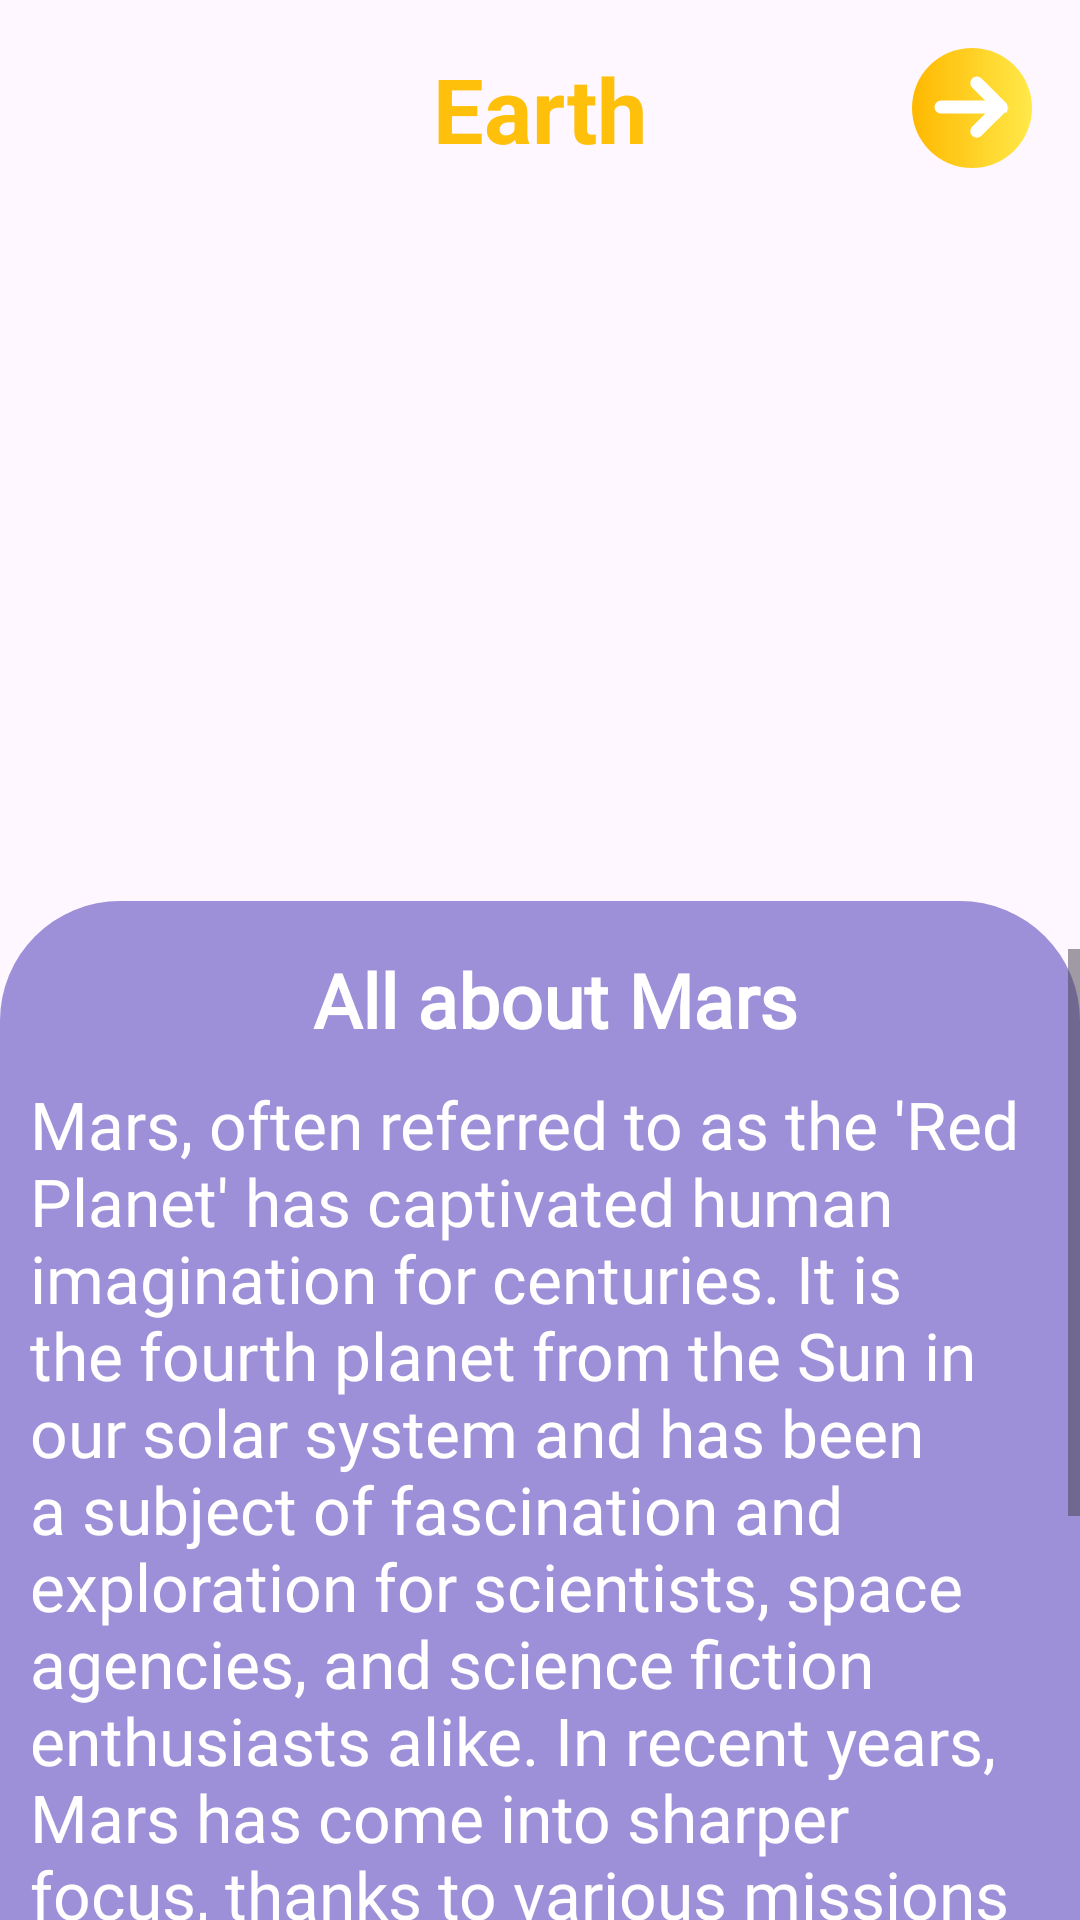

Screen size 1080px x 1920px. Icon name, then its box in pixels as {"x1": x1, "y1": y1, "x2": x2, "y2": y2}:
next: {"x1": 912, "y1": 48, "x2": 1032, "y2": 168}
